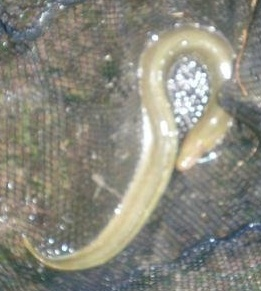Anguilla anguilla: (20, 20, 241, 271)
